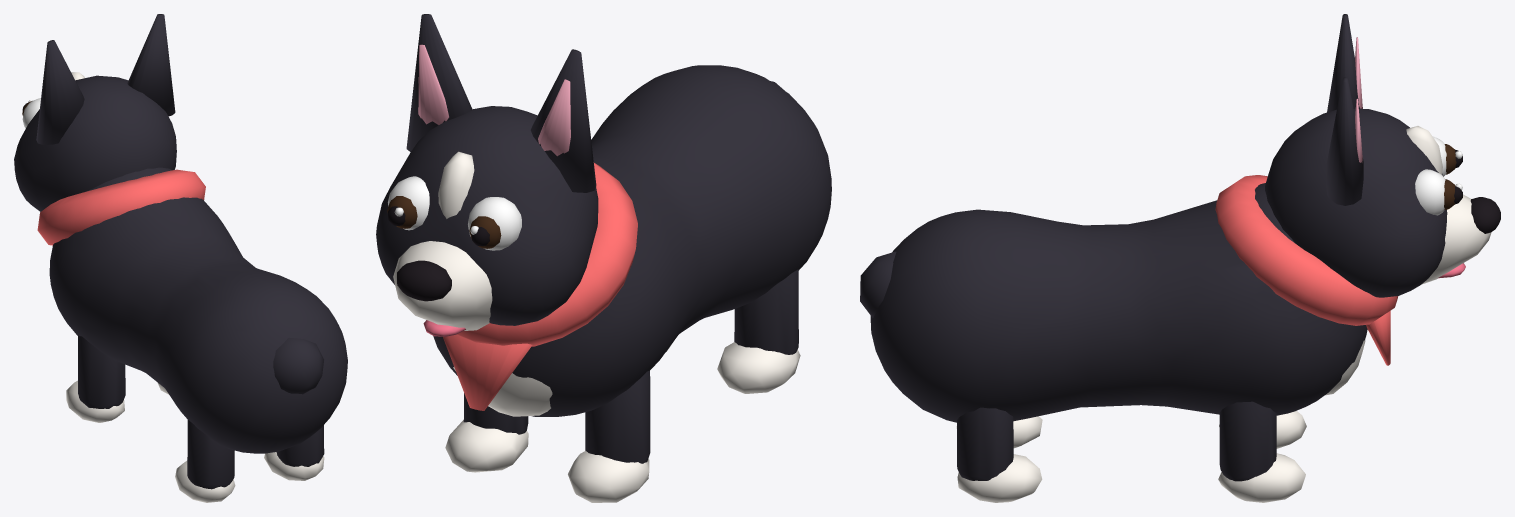
The model's file is dog_corgi.glb.
The picture shows the model from 3 angles, left to right: view 1: azimuth 30°, elevation 25°; view 2: azimuth 150°, elevation 25°; view 3: azimuth 270°, elevation 25°; orthographic projection. The views are drawn at different scales.
Parts seen in each view (by area): view 1: Body, Head, LegFL, LegBL, EarL, EarR, Tail, LegBR; view 2: Body, Head, LegFL, LegBL, EarL, EarR, LegFR; view 3: Body, Head, LegFR, LegBR, EarR, EarL, Tail, LegFL, LegBL.
Boxes of the visible parts, left/top/right/bottom form: Body: left=37, top=167, right=347, bottom=453; Head: left=14, top=72, right=176, bottom=211; LegFL: left=66, top=335, right=125, bottom=422; LegBL: left=175, top=420, right=235, bottom=502; EarL: left=36, top=40, right=84, bottom=144; EarR: left=127, top=14, right=175, bottom=116; Tail: left=273, top=338, right=323, bottom=394; LegBR: left=264, top=425, right=324, bottom=480; Body: left=433, top=65, right=831, bottom=416; Head: left=376, top=106, right=598, bottom=336; LegFL: left=568, top=371, right=650, bottom=502; LegBL: left=717, top=269, right=800, bottom=393; EarL: left=530, top=49, right=596, bottom=192; EarR: left=406, top=14, right=472, bottom=151; LegFR: left=445, top=393, right=528, bottom=472; Body: left=870, top=175, right=1398, bottom=422; Head: left=1265, top=109, right=1500, bottom=297; LegFR: left=1218, top=401, right=1305, bottom=502; LegBR: left=957, top=407, right=1042, bottom=502; EarR: left=1326, top=77, right=1363, bottom=205; EarL: left=1327, top=14, right=1362, bottom=112; Tail: left=860, top=251, right=896, bottom=317; LegFL: left=1219, top=411, right=1306, bottom=448; LegBL: left=956, top=416, right=1042, bottom=448.
Size of the model in its own units: 0.4652 by 0.9862 by 1.35.
